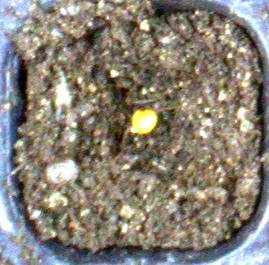chilli seed: (131, 109, 157, 134)
